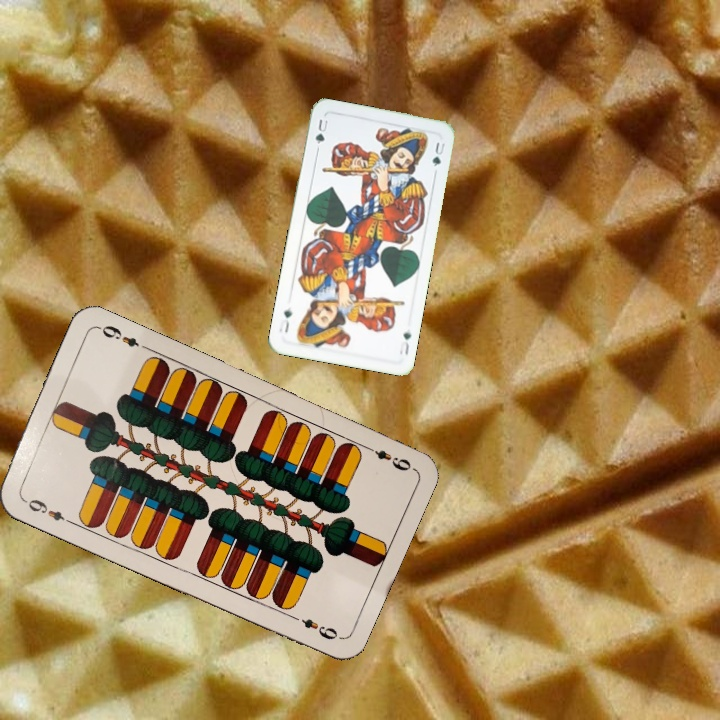E9: (359, 441, 414, 474), (19, 494, 74, 526)
GU: (311, 115, 330, 147), (395, 328, 414, 358)
